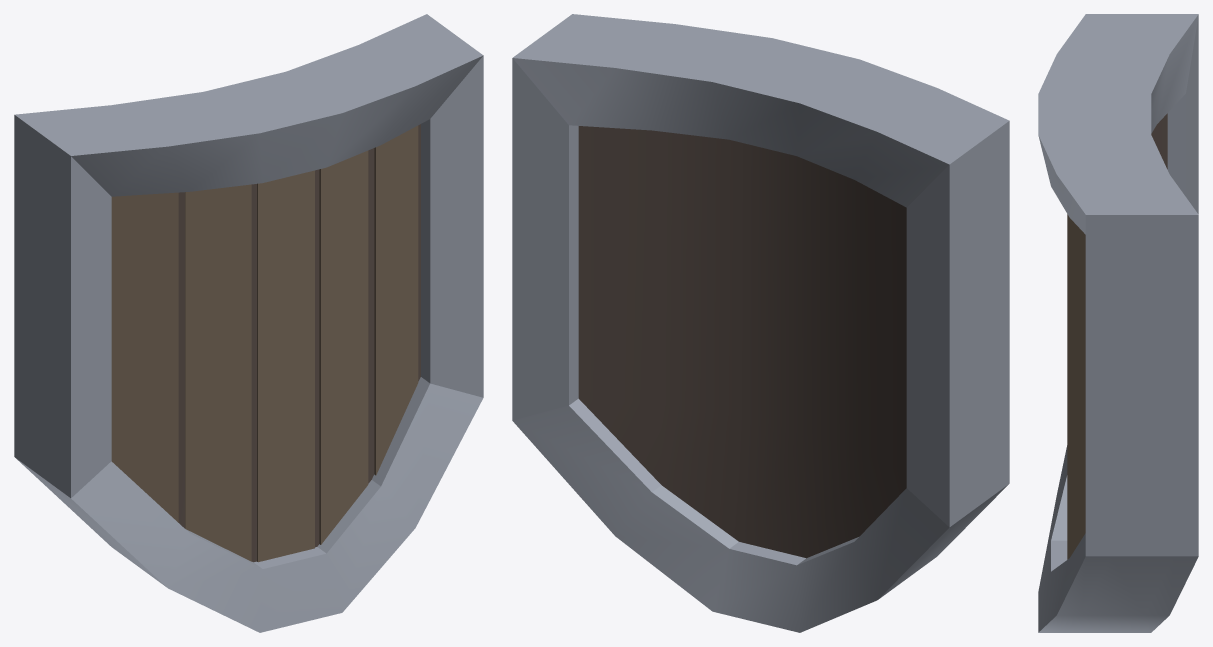
Rendered from Shield.fbx.
3 views of the same model, side by side, from view 1: azimuth 30°, elevation 25°; view 2: azimuth 150°, elevation 25°; view 3: azimuth 270°, elevation 25° (orthographic). The views are drawn at different scales.
Parts seen in each view (by area): view 1: pCube1, pCube4, pCube2, pCube6, pCube3, pCube5, pCube8; view 2: pCube1, pCube7; view 3: pCube1, pCube3, pCube7.
Part boxes in pixels (left/top/right/bottom): pCube1: left=14, top=14, right=483, bottom=632; pCube4: left=185, top=184, right=251, bottom=561; pCube2: left=257, top=170, right=314, bottom=562; pCube6: left=111, top=192, right=178, bottom=522; pCube3: left=319, top=150, right=368, bottom=544; pCube5: left=374, top=125, right=418, bottom=475; pCube8: left=178, top=124, right=420, bottom=562; pCube1: left=512, top=14, right=1009, bottom=632; pCube7: left=578, top=126, right=906, bottom=558; pCube1: left=1038, top=14, right=1198, bottom=632; pCube3: left=1067, top=214, right=1085, bottom=559; pCube7: left=1151, top=113, right=1167, bottom=169.
Bounding box in the file's own units: 3.39 × 3.92 × 1.15.
